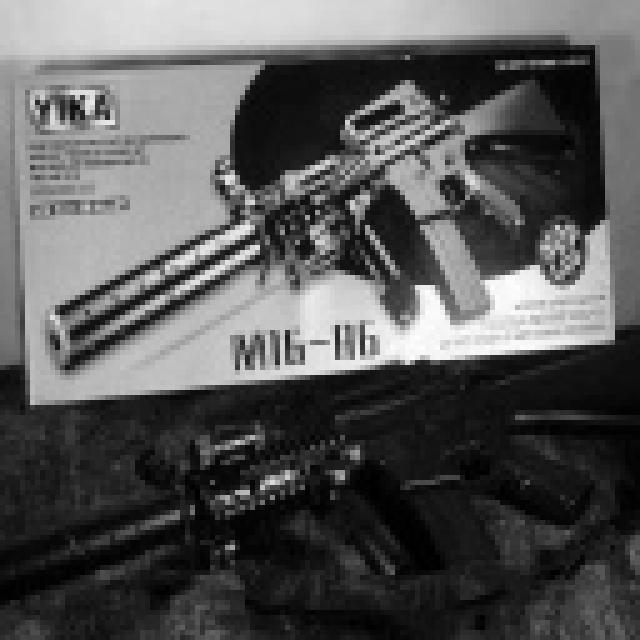Rifle: (0, 35, 596, 375), (25, 340, 635, 640)
